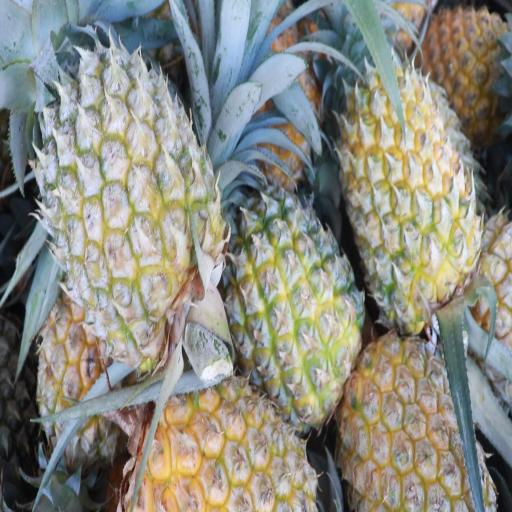------------------------------: (39, 54, 220, 351), (227, 189, 359, 414), (36, 306, 123, 482)
Pineapple - v8 v1: (343, 58, 475, 320), (344, 339, 487, 512), (132, 379, 318, 512), (417, 4, 512, 125)
